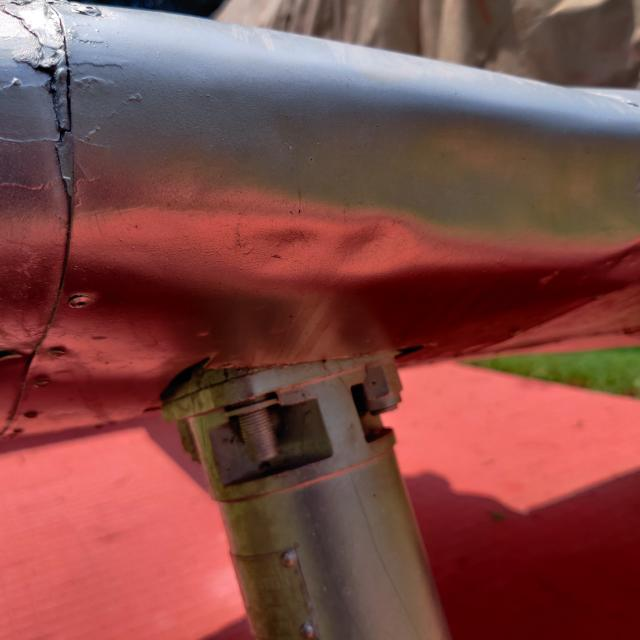crack: (7, 45, 95, 151)
dent: (226, 169, 437, 305)
